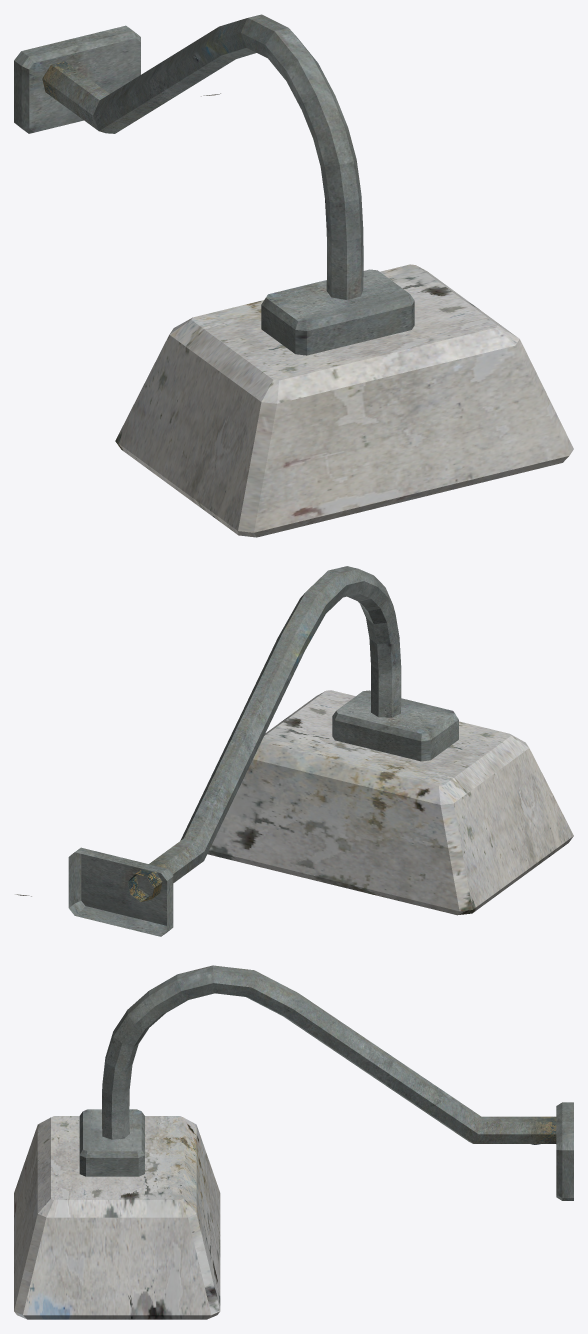
File: Doorlamp1.fbx
3 views of the same model, one above another, from view 1: azimuth 30°, elevation 25°; view 2: azimuth 150°, elevation 25°; view 3: azimuth 270°, elevation 25° (orthographic). The views are drawn at different scales.
Visible parts, largest first — view 1: sub01; view 2: sub01; view 3: sub01.
Boxes of the visible parts, <box> form: sub01: <box>14,14,573,537</box>; sub01: <box>15,566,573,936</box>; sub01: <box>14,965,573,1319</box>.
Size of the model in its own units: 0.2073 by 0.2224 by 0.3898.
Materials: 2 (2 with a texture image).
